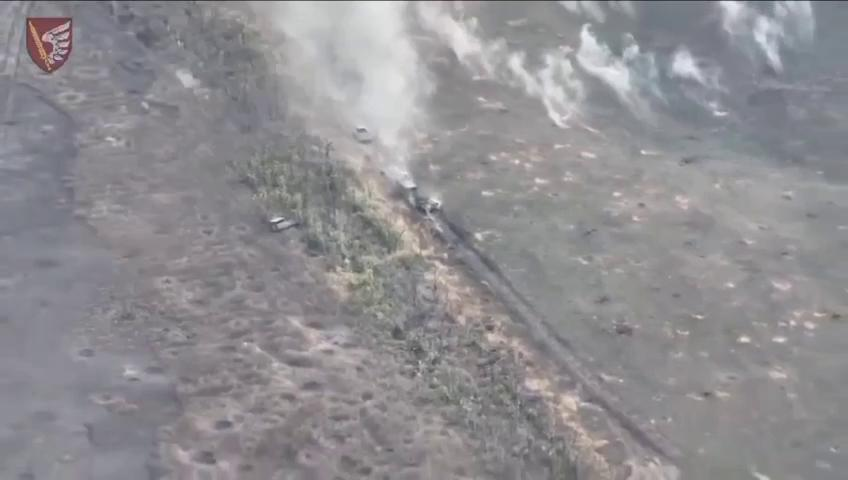tank: (409, 191, 439, 218), (393, 171, 417, 196), (350, 123, 375, 145)
